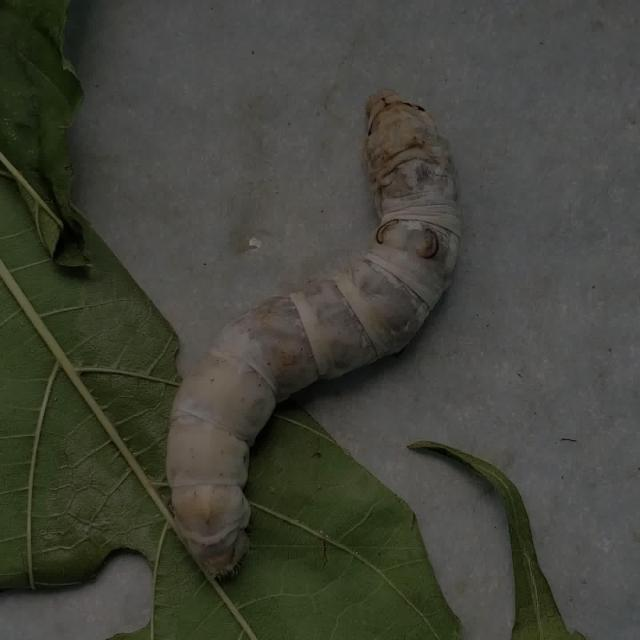Grasserie: (134, 57, 497, 599)
